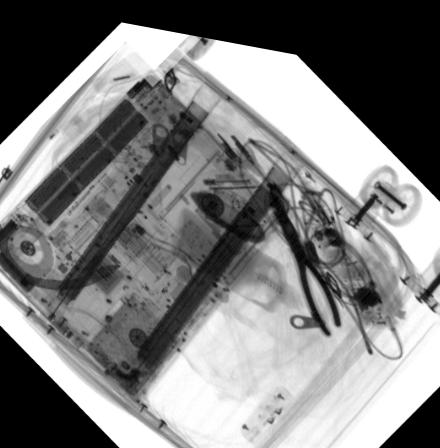Pliers: (270, 179, 341, 323)
